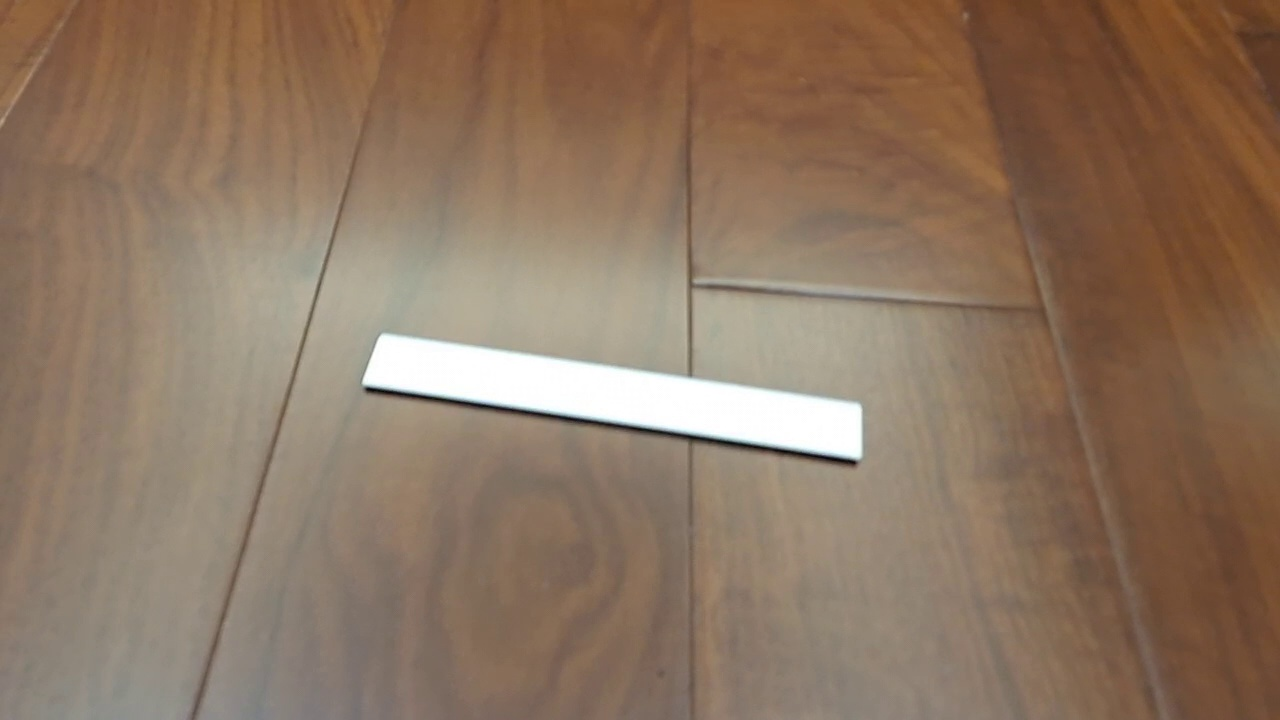ruler: (360, 330, 863, 463)
